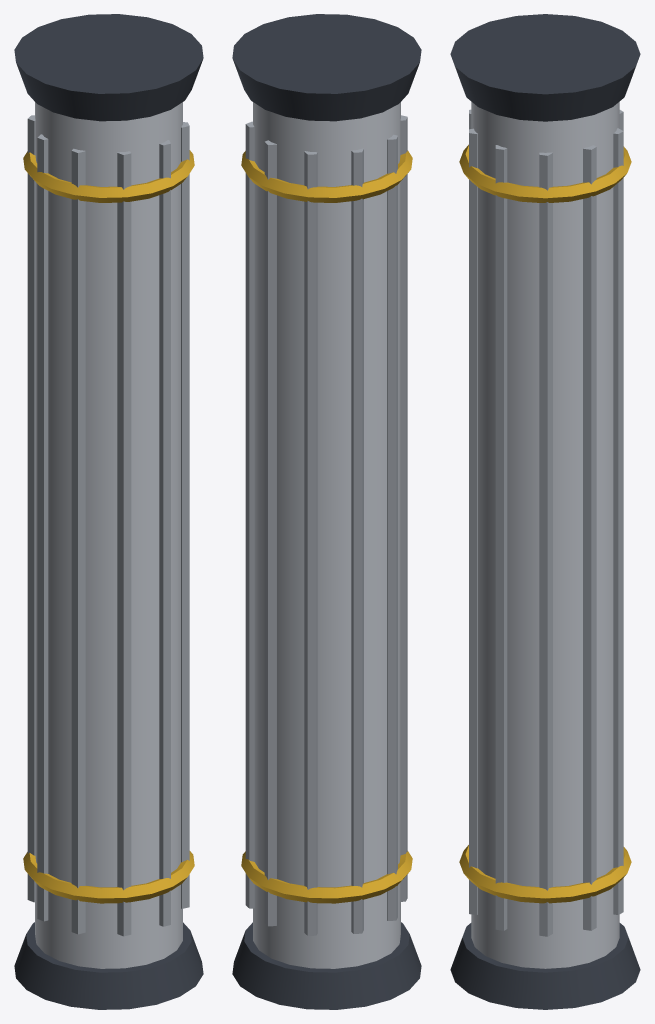
Rendered from pillar_fluted_round.glb.
3 views of the same model, side by side, from view 1: azimuth 30°, elevation 25°; view 2: azimuth 150°, elevation 25°; view 3: azimuth 270°, elevation 25° (orthographic).
Parts seen in each view (by area): view 1: pillar_fluted_round; view 2: pillar_fluted_round; view 3: pillar_fluted_round.
Boxes of the visible parts, box(x1,y1,x2,y2) form: pillar_fluted_round: box(14, 14, 203, 1009); pillar_fluted_round: box(232, 14, 421, 1009); pillar_fluted_round: box(450, 14, 640, 1009).
Size of the model in its own units: 0.64 by 3.4 by 0.64.
